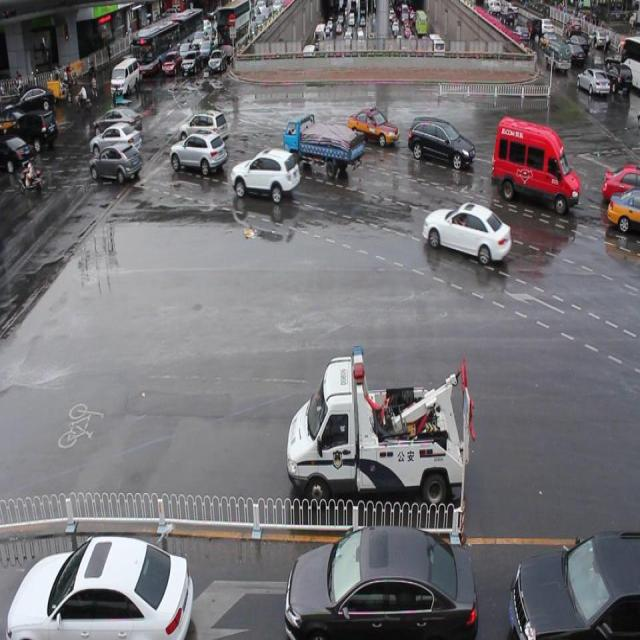bus: (287, 338, 475, 506), (284, 114, 362, 180)
car: (286, 522, 476, 640), (9, 534, 191, 640), (510, 526, 640, 640), (424, 202, 509, 266), (231, 150, 301, 201), (410, 111, 474, 166), (171, 130, 226, 176), (348, 105, 399, 143), (180, 111, 228, 151), (601, 158, 640, 198), (604, 186, 640, 228)
truck: (491, 114, 579, 208)
